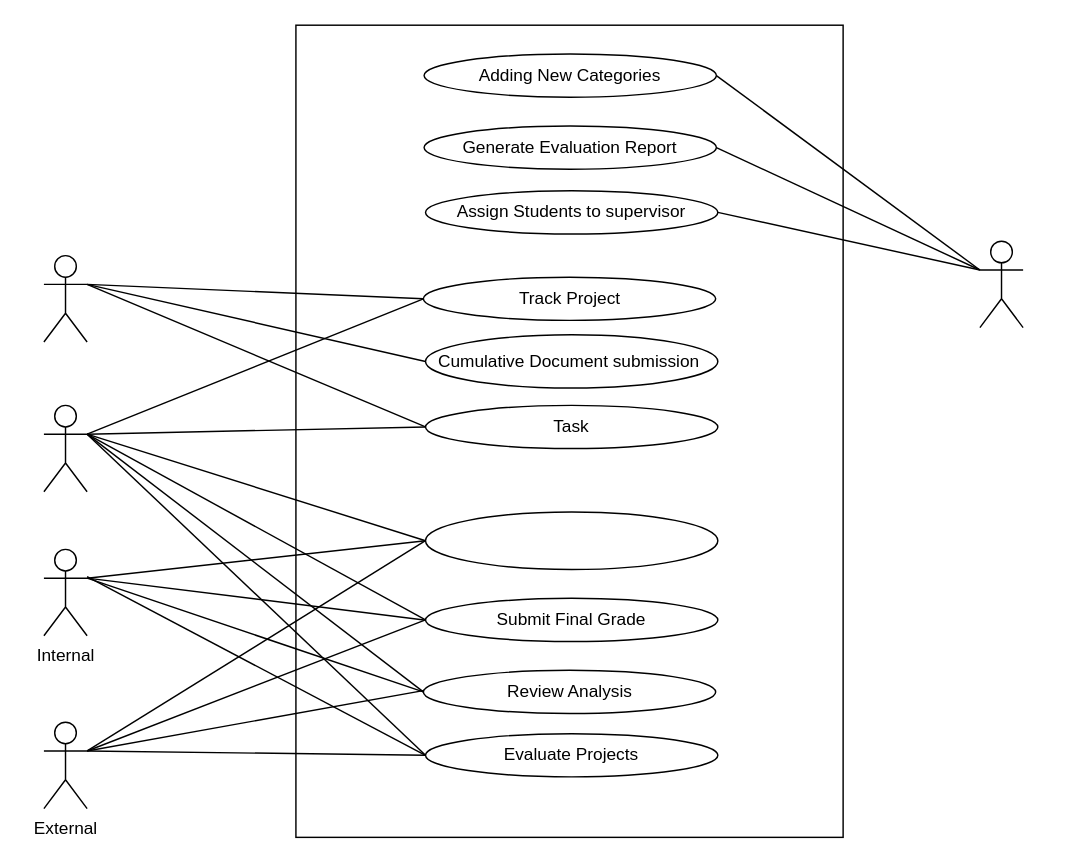
This 1081x864 diagram has some shape labels left out. Each missing label, with the centre of its shape:
Administration: the point at 1000,284
Evaluate Project & Process Documents: the point at 571,540
Student: the point at 64,298
Supervisor: the point at 64,448
